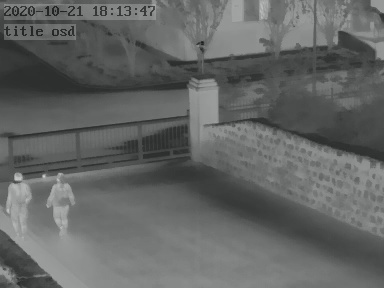person: (45, 172, 73, 237), (3, 173, 29, 238)
